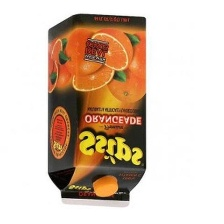carton: (45, 9, 149, 206)
